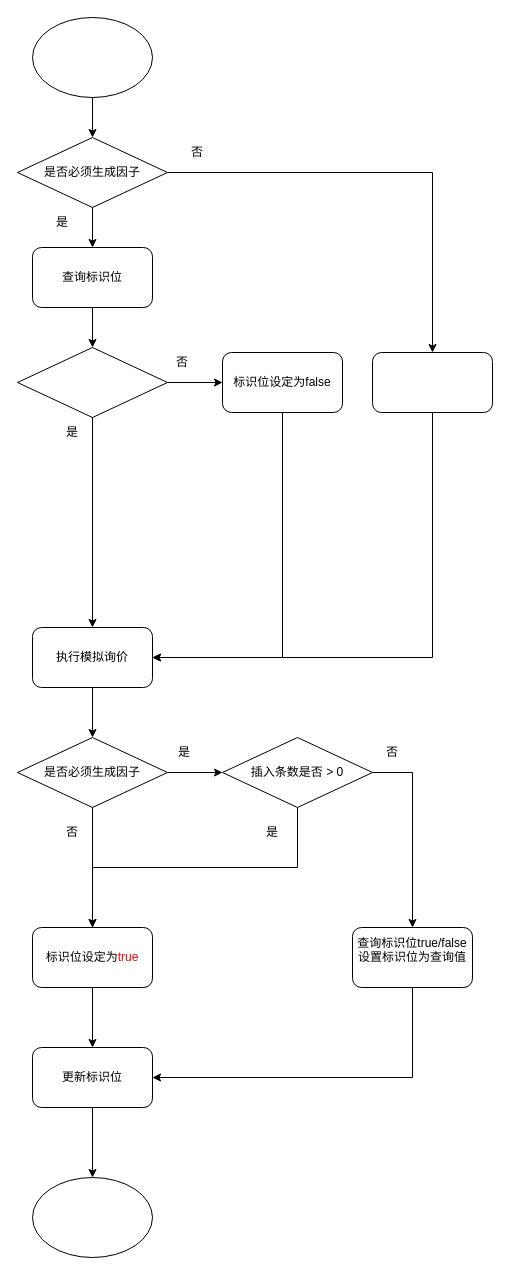
The diagram is 510 pixels wide and 1275 high, and some of its shapes have lost their labels. The box of each missing label's shape, as (x1, y1, x2, y2) in pixels:
开始: (32, 16, 152, 98)
标识位是否为true: (16, 346, 168, 418)
标识位设定为true: (372, 352, 492, 412)
结束: (32, 1176, 152, 1258)
